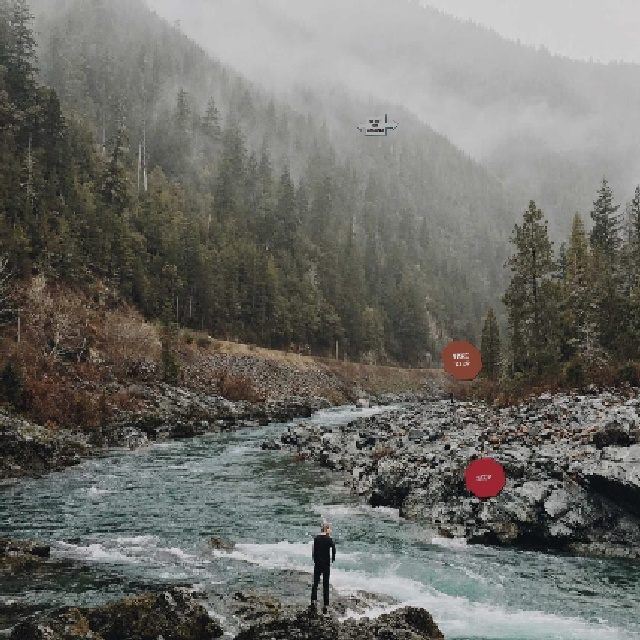DO_NOT_GO_AROUND: (355, 113, 398, 135)
FAKE_STOP: (439, 338, 482, 379)
STOP: (462, 455, 505, 497)
